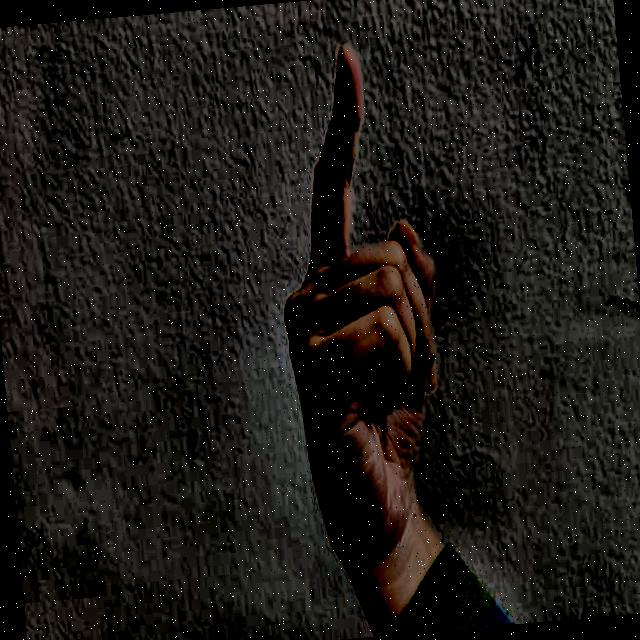U: (231, 16, 477, 572)
